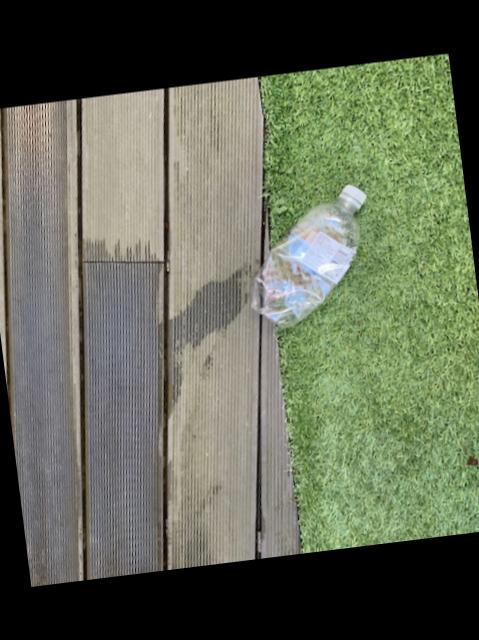plastic: (250, 186, 363, 328)
